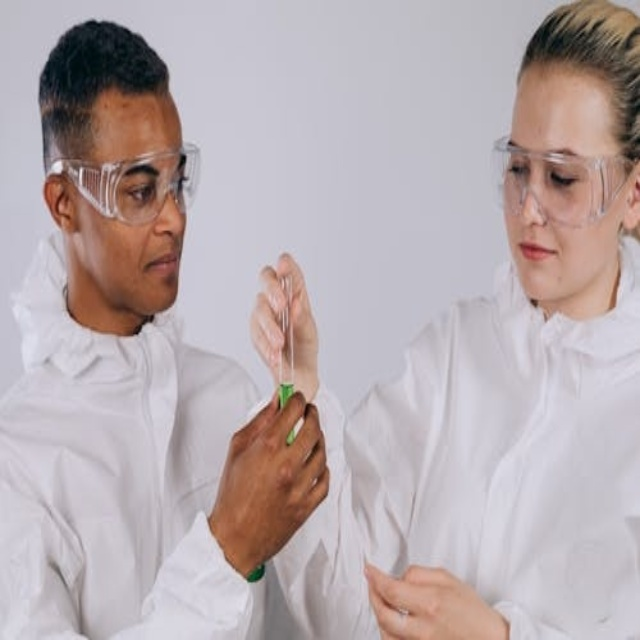Gafas: (491, 139, 634, 227), (47, 144, 201, 224)
Sin_guantes: (213, 386, 329, 578), (362, 548, 508, 636), (241, 252, 320, 392)
Sin_mascara: (508, 231, 566, 302), (131, 250, 184, 308)
